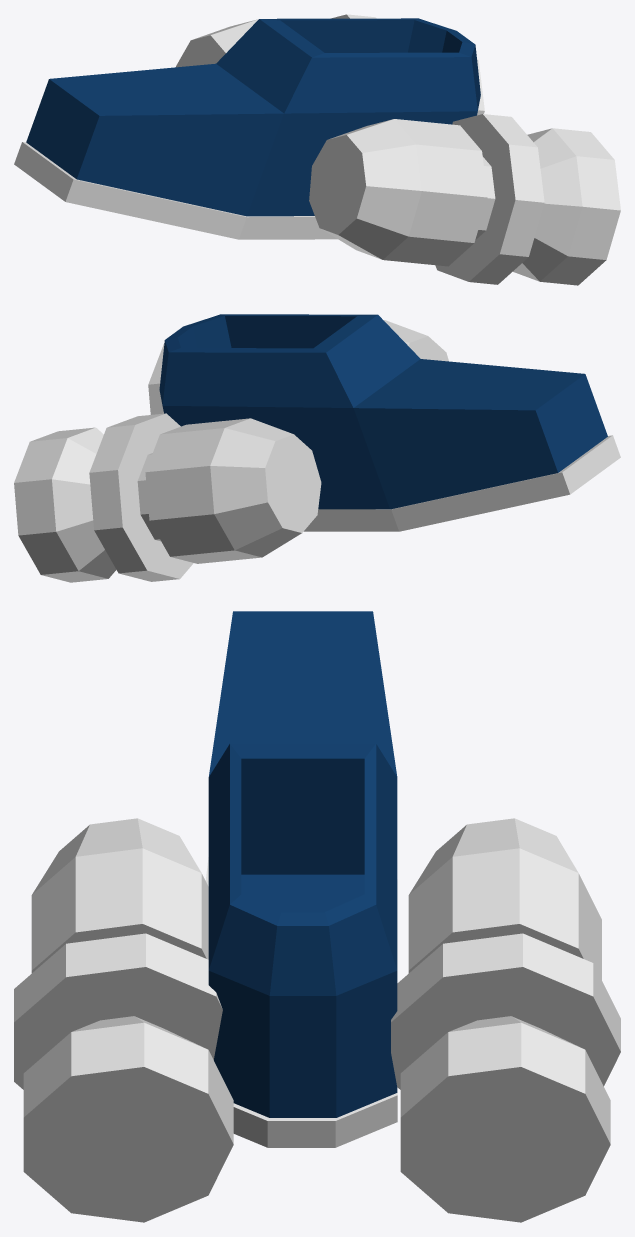
Rendered from itemSpeedBoot.glb.
3 views of the same model, one above another, from view 1: azimuth 30°, elevation 25°; view 2: azimuth 150°, elevation 25°; view 3: azimuth 270°, elevation 25° (orthographic). The views are drawn at different scales.
Parts seen in each view (by area): view 1: Cube.001; view 2: Cube.001; view 3: Cube.001.
Boxes of the visible parts, x1=… form: Cube.001: x1=14, y1=14, x2=620, y2=285; Cube.001: x1=14, y1=314, x2=620, y2=582; Cube.001: x1=14, y1=611, x2=620, y2=1222.
Size of the model in its own units: 0.7338 by 0.3476 by 0.5633.
